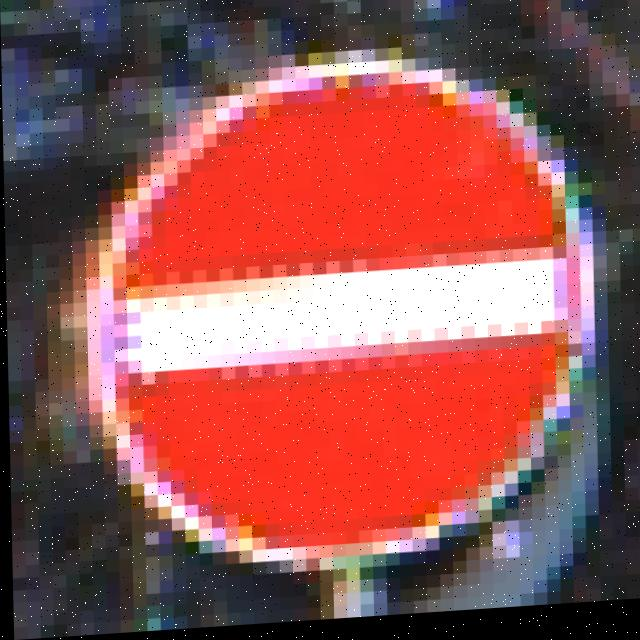road_rough: (118, 28, 605, 574)
